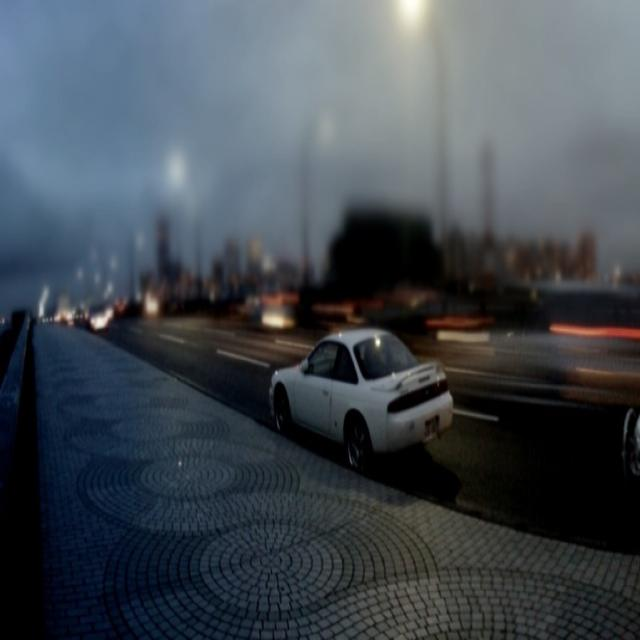car: (267, 318, 456, 476), (74, 298, 106, 325)
